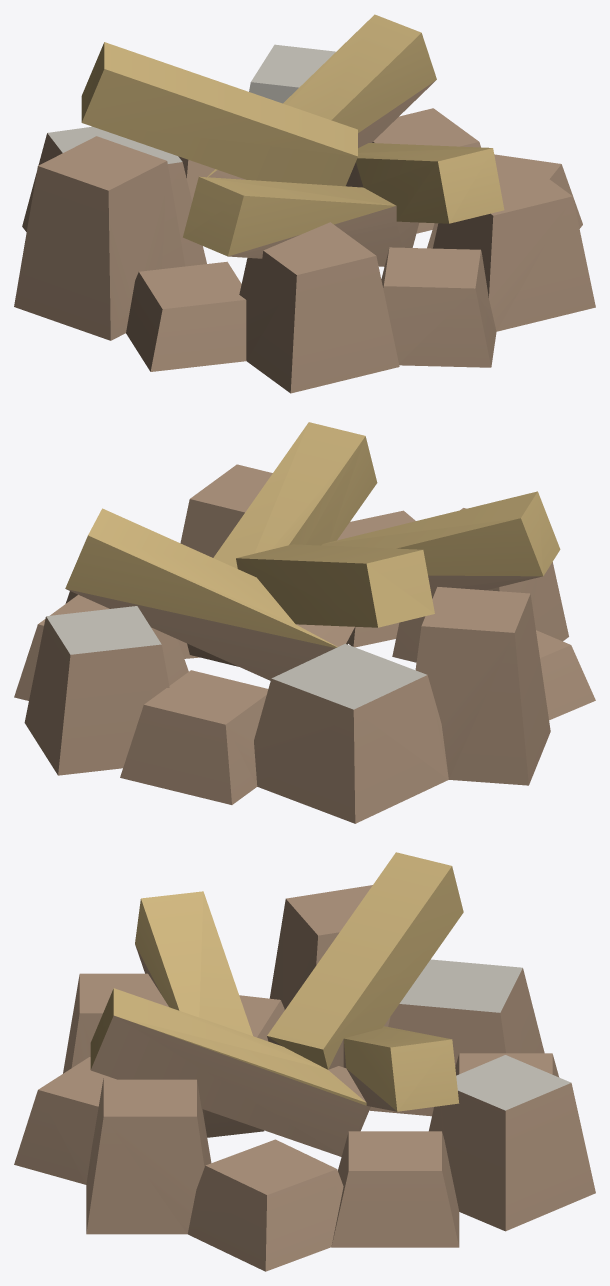
File: campfire.glb
3 renders of one model, top to bottom at view 1: azimuth 30°, elevation 25°; view 2: azimuth 150°, elevation 25°; view 3: azimuth 270°, elevation 25°, orthographic. The views are drawn at different scales.
Parts seen in each view (by area): view 1: campfire; view 2: campfire; view 3: campfire.
Part boxes in pixels (bbox=[...]): campfire: bbox=[14, 14, 595, 393]; campfire: bbox=[14, 422, 595, 823]; campfire: bbox=[14, 852, 595, 1271].
Bounding box in the file's own units: 1.27 × 0.5 × 1.23.
